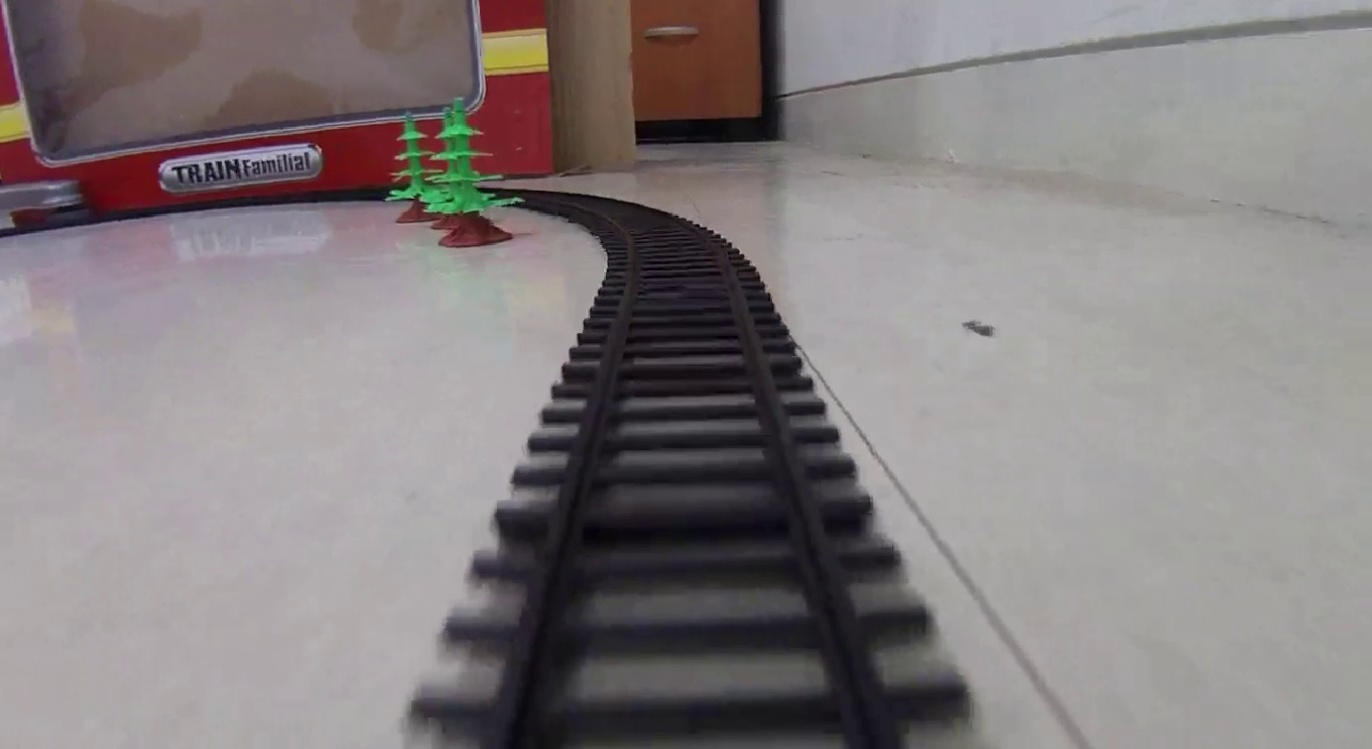tree: (438, 98, 515, 243), (394, 109, 441, 222)
